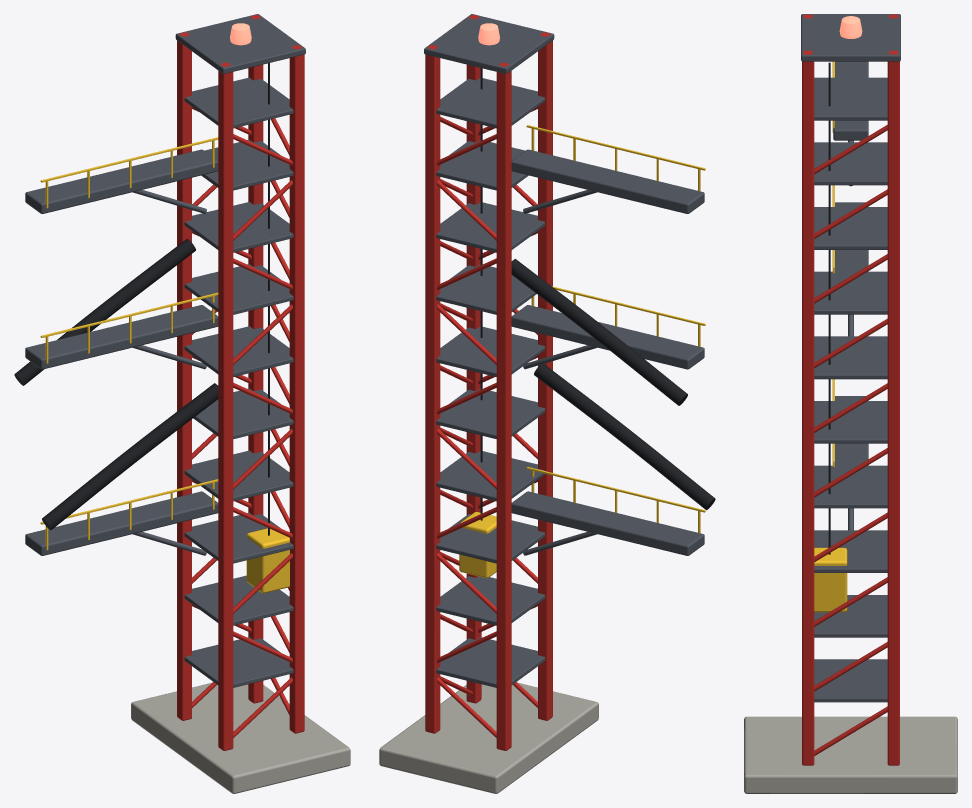
Rendered from LaunchTower.fbx.
3 views of the same model, side by side, from view 1: azimuth 30°, elevation 25°; view 2: azimuth 150°, elevation 25°; view 3: azimuth 270°, elevation 25° (orthographic). The views are drawn at different scales.
Parts seen in each view (by area): view 1: Body__MetalDark, Body__RedMetal, Body__Concrete, Body__Black, Body__Yellow; view 2: Body__MetalDark, Body__RedMetal, Body__Concrete, Body__Black, Body__Yellow; view 3: Body__MetalDark, Body__RedMetal, Body__Concrete, Body__Yellow, Body__Black, TopBeacon__NeonRed.
Boxes of the visible parts, x1,y1,x2,y2 form: Body__MetalDark: [25, 14, 305, 687]; Body__RedMetal: [177, 14, 304, 750]; Body__Concrete: [131, 683, 350, 793]; Body__Black: [14, 63, 269, 535]; Body__Yellow: [40, 137, 289, 593]; Body__MetalDark: [424, 14, 704, 687]; Body__RedMetal: [425, 14, 552, 750]; Body__Concrete: [379, 683, 598, 793]; Body__Black: [480, 68, 715, 520]; Body__Yellow: [459, 125, 705, 578]; Body__MetalDark: [801, 14, 900, 702]; Body__RedMetal: [802, 14, 899, 765]; Body__Concrete: [744, 716, 957, 793]; Body__Yellow: [814, 61, 847, 612]; Body__Black: [828, 62, 830, 554]; TopBeacon__NeonRed: [839, 16, 862, 38].
Bounding box in the file's own units: 9.1 × 23.65 × 6.
